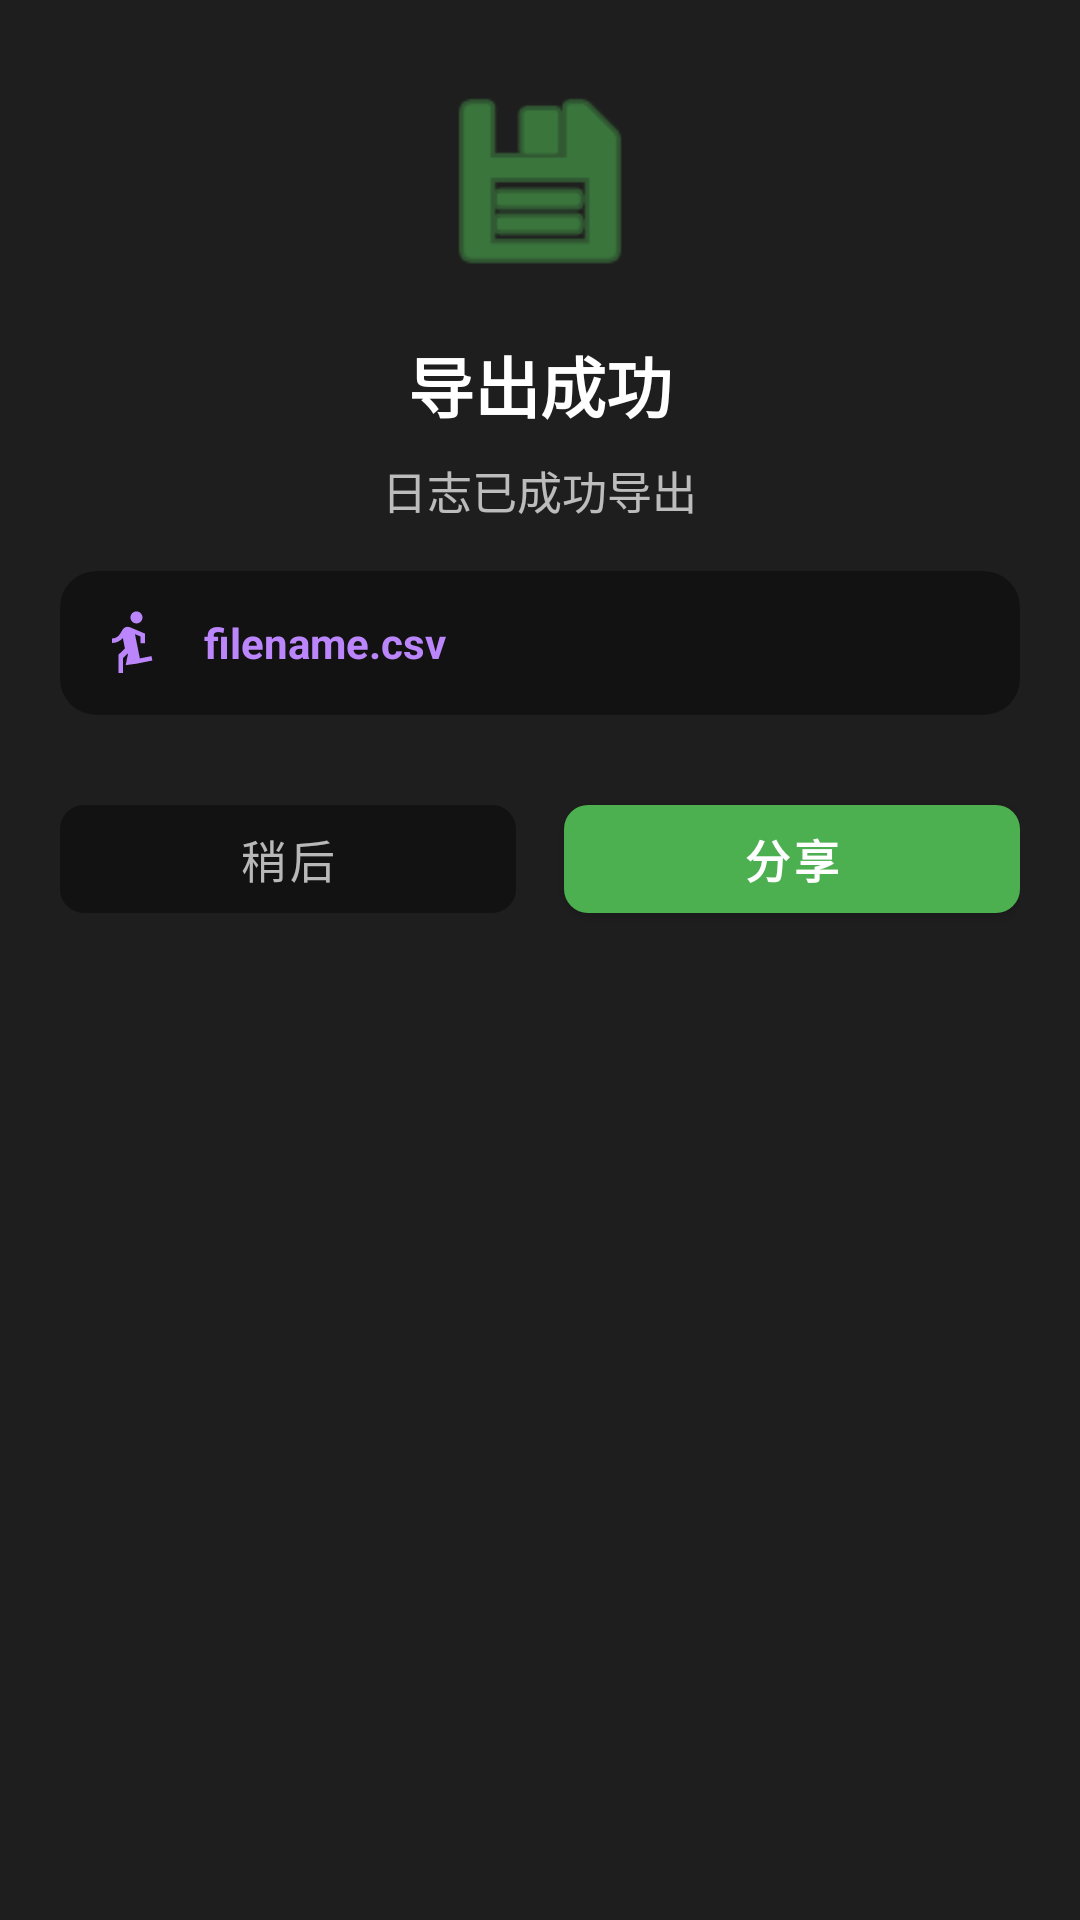

Named icons in this screenshot (1080px×1920px) and their bounding boxes, [x1,y1,x2,y2]:
save: [459,99,621,263]
